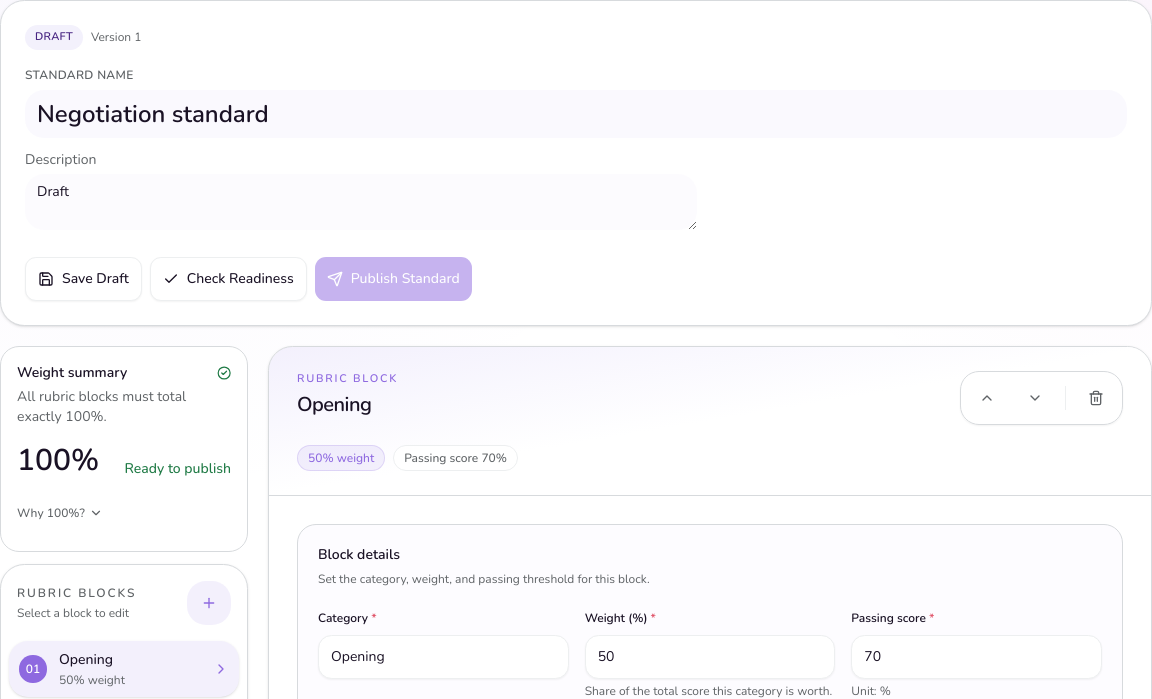
Test case: StandardEditor › requires validation before publishing and confirms the new version
The width and height of the screenshot is (1152, 699).
Check: the button "Publish Standard" is disabled, box x1=315 y1=256 x2=472 y2=300
Click the button "Check Readiness" at [228, 278], box x1=150 y1=256 x2=307 y2=300
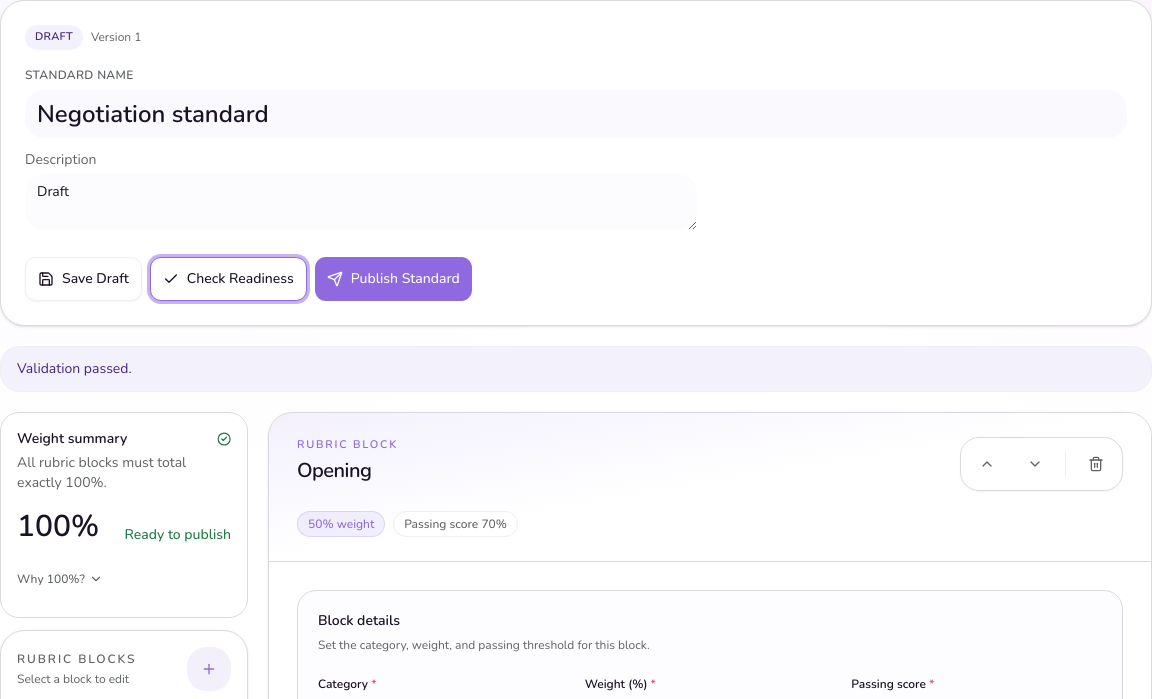
Check: the button "Publish Standard" is enabled
Click the button "Publish Standard" at [393, 278], box x1=315 y1=256 x2=472 y2=300
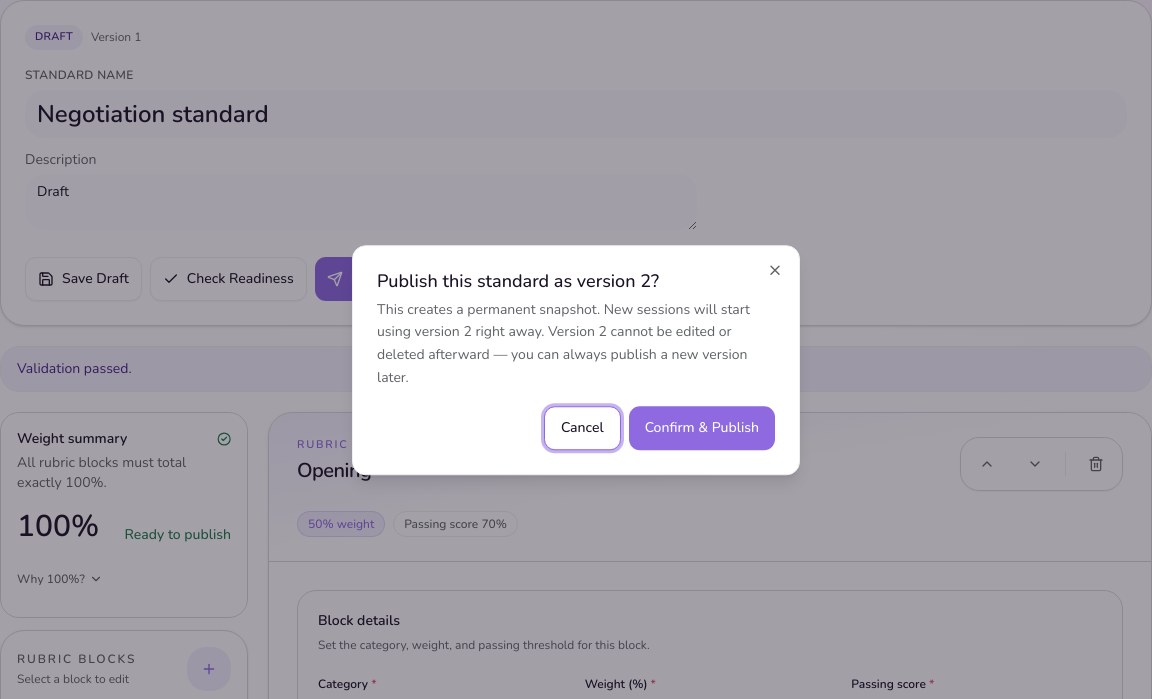
Check: the heading "Publish this standard as version 2?" is shown, box x1=377 y1=269 x2=659 y2=293
Check: the text "permanent snapshot" is shown, box x1=377 y1=300 x2=750 y2=342
Click the button "Confirm & Publish" at [702, 428], box x1=629 y1=406 x2=775 y2=450
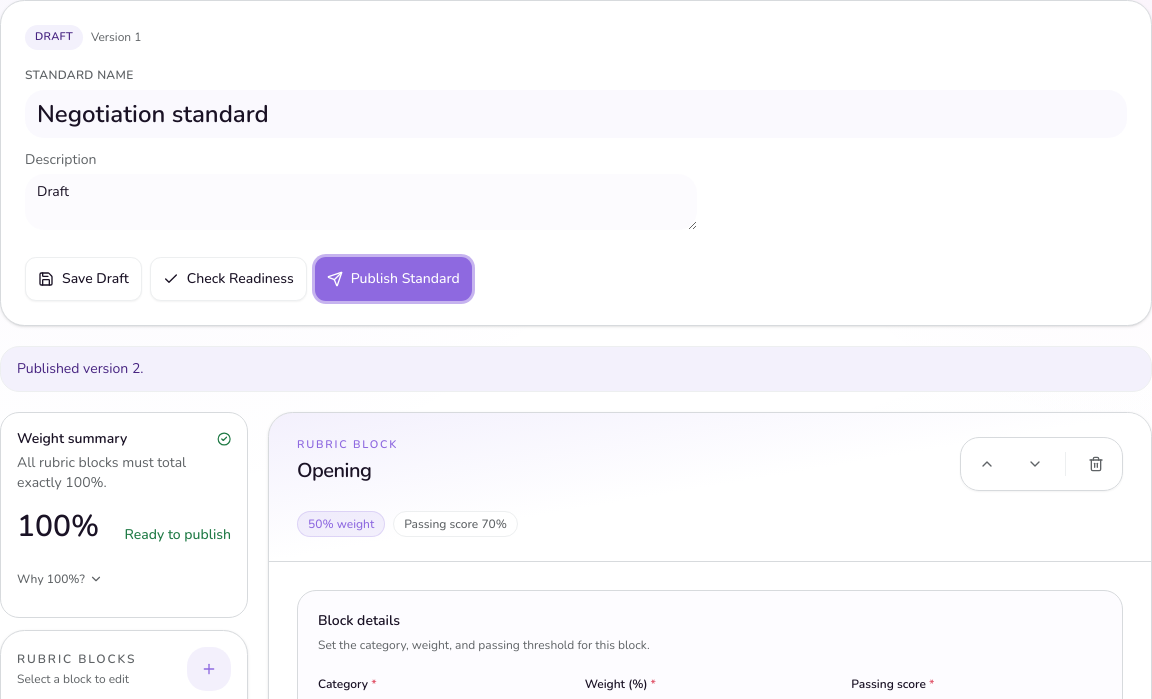
Check: the text "Published version 2." is shown, box x1=0 y1=346 x2=1151 y2=392
